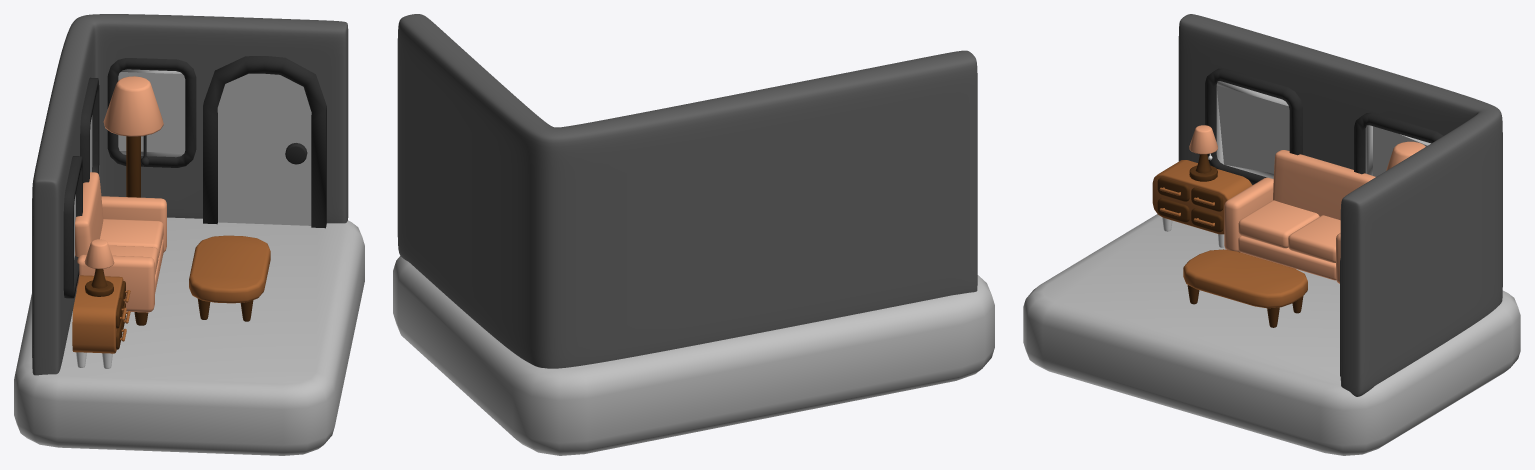
File: home.glb
The picture shows the model from 3 angles, left to right: view 1: azimuth 30°, elevation 25°; view 2: azimuth 150°, elevation 25°; view 3: azimuth 270°, elevation 25°; orthographic projection. The views are drawn at different scales.
Parts seen in each view (by area): view 1: Cube.180; view 2: Cube.180; view 3: Cube.180.
Part boxes in pixels (bbox=[...]): Cube.180: bbox=[14, 14, 364, 455]; Cube.180: bbox=[393, 14, 994, 455]; Cube.180: bbox=[1023, 14, 1520, 455].
Bounding box in the file's own units: 0.9426 × 0.573 × 1.
